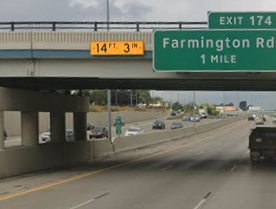1: (94, 41, 101, 55)
3: (122, 41, 131, 55)
4: (99, 41, 109, 54)
overheadsign: (89, 40, 146, 57)
